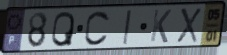8: (26, 11, 49, 49)
C: (83, 9, 112, 47)
I: (121, 9, 133, 47)
K: (149, 8, 173, 45)
Q: (50, 10, 77, 49)
X: (176, 6, 203, 44)
